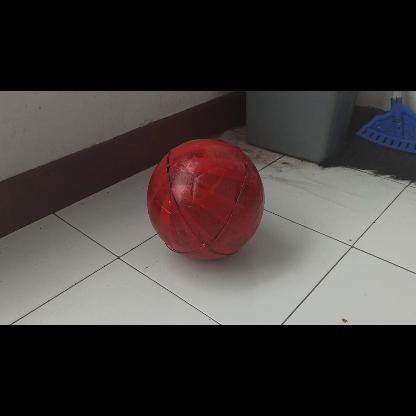red_ball: (148, 142, 264, 258)
